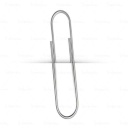Metal: (40, 6, 100, 122)
